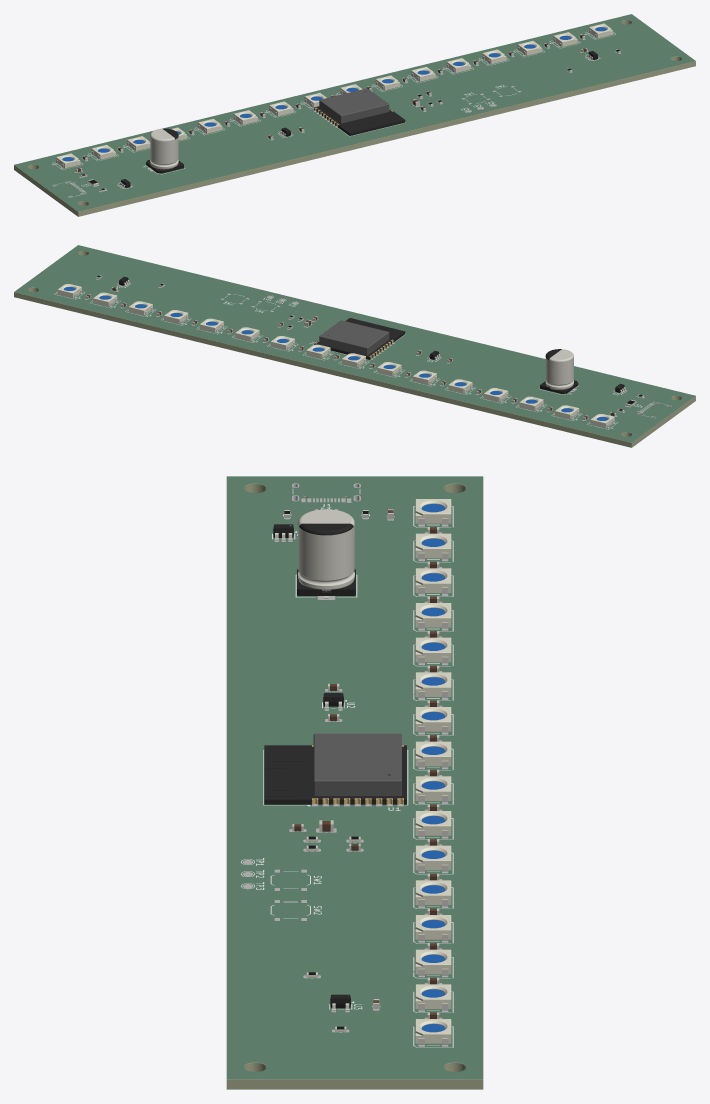
The model's file is led-bar.glb.
3 renders of one model, top to bottom at view 1: azimuth 30°, elevation 25°; view 2: azimuth 150°, elevation 25°; view 3: azimuth 270°, elevation 25°, orthographic. The views are drawn at different scales.
Parts seen in each view (by area): view 1: =>[0:1:1:24], =>[0:1:1:22], =>[0:1:1:19], =>[0:1:1:17], =>[0:1:1:21], =>[0:1:1:20]; view 2: =>[0:1:1:24], =>[0:1:1:22], =>[0:1:1:19], =>[0:1:1:17], =>[0:1:1:21], =>[0:1:1:20]; view 3: =>[0:1:1:22], =>[0:1:1:24], =>[0:1:1:9] (×16), =>[0:1:1:19], =>[0:1:1:17], =>[0:1:1:21], =>[0:1:1:20].
Part boxes in pixels (x1,y1,x2,y2): =>[0:1:1:24]: (14, 15, 695, 216); =>[0:1:1:22]: (14, 14, 695, 211); =>[0:1:1:19]: (314, 88, 405, 135); =>[0:1:1:17]: (146, 128, 183, 173); =>[0:1:1:21]: (52, 31, 616, 196); =>[0:1:1:20]: (52, 33, 621, 197); =>[0:1:1:24]: (14, 246, 695, 447); =>[0:1:1:22]: (14, 245, 695, 442); =>[0:1:1:19]: (314, 318, 405, 359); =>[0:1:1:17]: (540, 349, 578, 393); =>[0:1:1:21]: (54, 278, 665, 429); =>[0:1:1:20]: (56, 277, 671, 428); =>[0:1:1:22]: (226, 476, 483, 1079); =>[0:1:1:24]: (226, 477, 483, 1089); =>[0:1:1:9] (×16): (415, 499, 451, 1044); =>[0:1:1:19]: (264, 733, 406, 804); =>[0:1:1:17]: (297, 509, 355, 598); =>[0:1:1:21]: (241, 489, 453, 1047); =>[0:1:1:20]: (242, 483, 448, 1046).
Bounding box in the file's own units: 0.2 × 0.0116 × 0.036.
